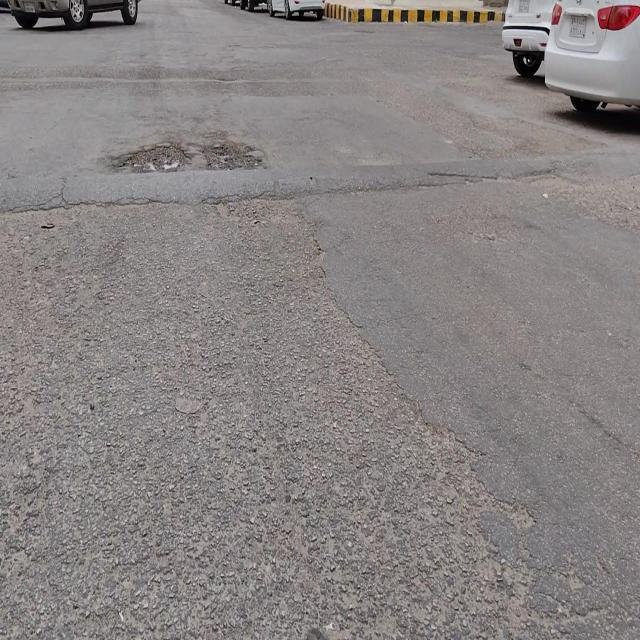Pothole: (117, 137, 187, 171), (198, 135, 261, 166)
